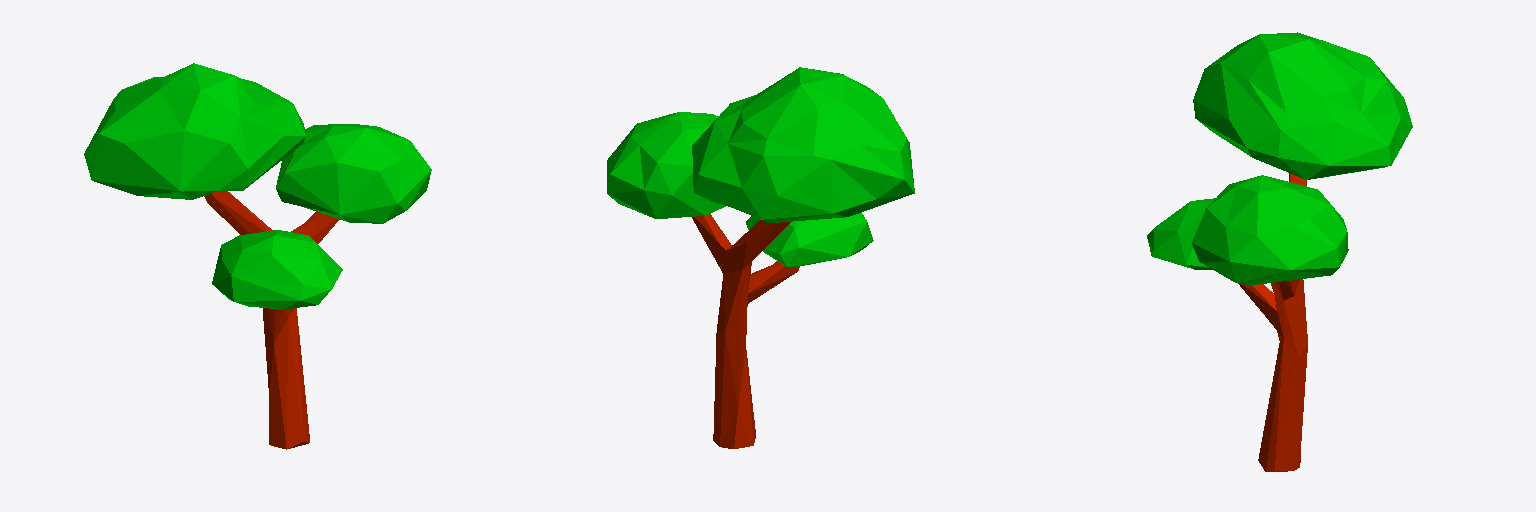
Rendered from Tree1.obj.
3 views of the same model, side by side, from view 1: azimuth 30°, elevation 25°; view 2: azimuth 150°, elevation 25°; view 3: azimuth 270°, elevation 25° (orthographic).
Visible parts, largest first — view 1: leaves_Icosphere, trunk_Cube; view 2: leaves_Icosphere, trunk_Cube; view 3: leaves_Icosphere, trunk_Cube.
Boxes of the visible parts, box(x1,y1,x2,y2) form: leaves_Icosphere: box(84, 63, 431, 309); trunk_Cube: box(204, 191, 339, 449); leaves_Icosphere: box(607, 67, 914, 266); trunk_Cube: box(692, 214, 799, 448); leaves_Icosphere: box(1147, 32, 1412, 285); trunk_Cube: box(1239, 173, 1307, 471).
Size of the model in its own units: 7.34 by 8.72 by 5.43.